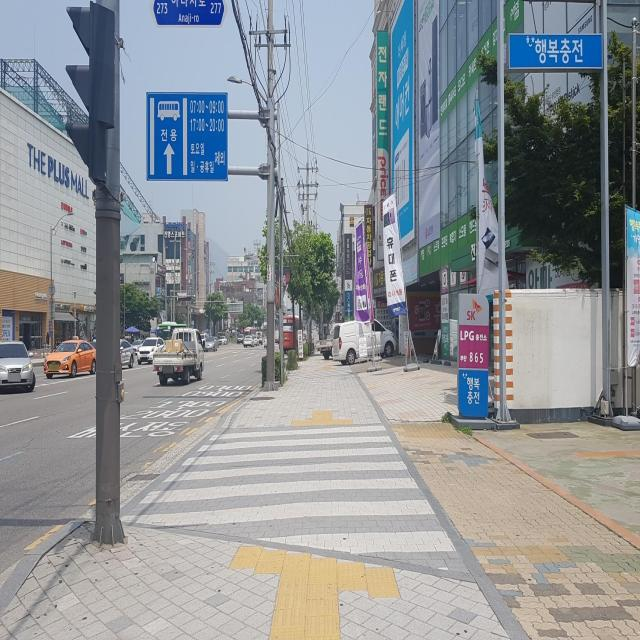횡단보도: (118, 420, 458, 575)
